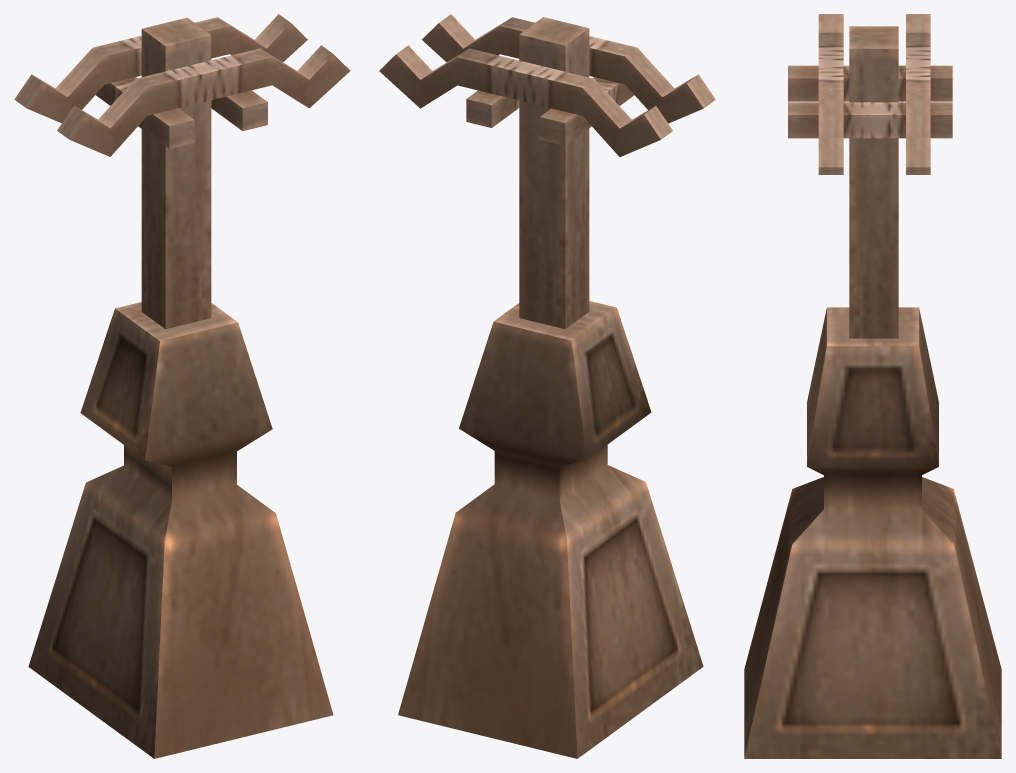
Rendered from FB_ChengZhenMuqiao_Ludeng.FBX.
The picture shows the model from 3 angles, left to right: view 1: azimuth 30°, elevation 25°; view 2: azimuth 150°, elevation 25°; view 3: azimuth 270°, elevation 25°; orthographic projection. The views are drawn at different scales.
Parts seen in each view (by area): view 1: Box15; view 2: Box15; view 3: Box15.
Part boxes in pixels (box(x1,y1,x2,y2)): Box15: box(14, 14, 350, 758); Box15: box(379, 14, 715, 758); Box15: box(744, 14, 1001, 758).
Bounding box in the file's own units: 1.85 × 4.14 × 1.43.
